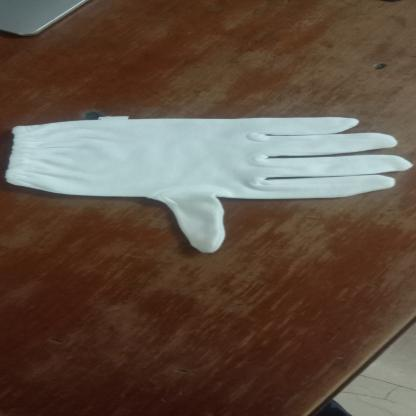gloved_hand: (4, 108, 413, 256)
